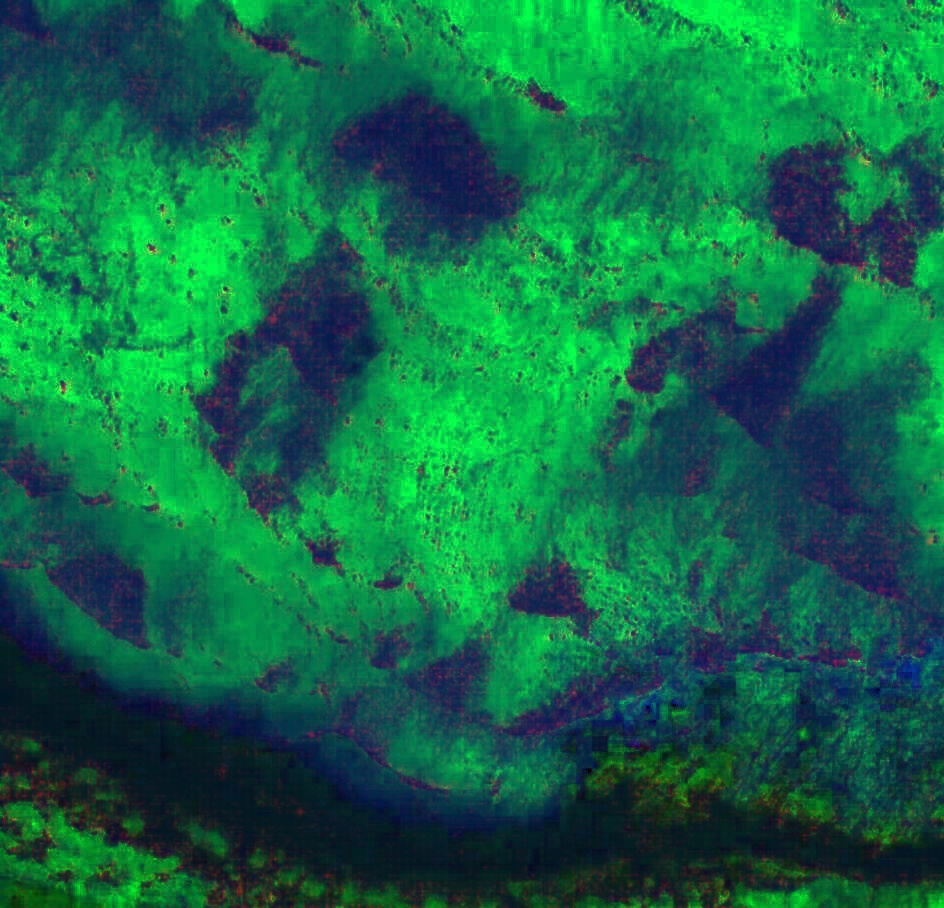rip_current: (234, 127, 727, 684)
